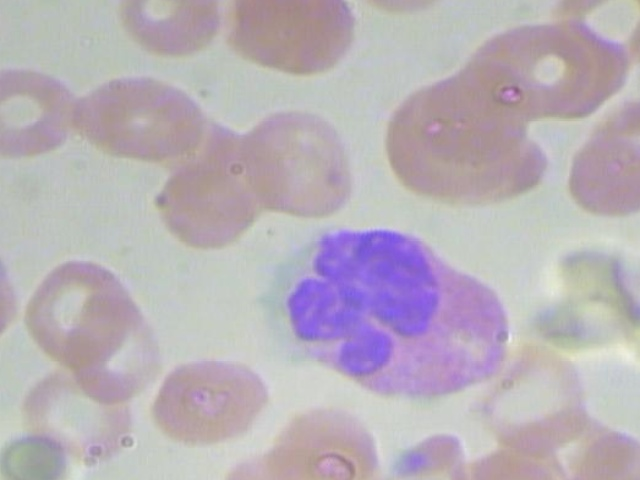RBC: (16, 360, 140, 475), (236, 103, 360, 218), (23, 255, 138, 368), (67, 70, 205, 163), (156, 355, 278, 453), (225, 0, 363, 81), (72, 301, 161, 400), (0, 64, 82, 160), (111, 0, 231, 59), (564, 130, 640, 221)
WBC: (274, 220, 518, 407)
